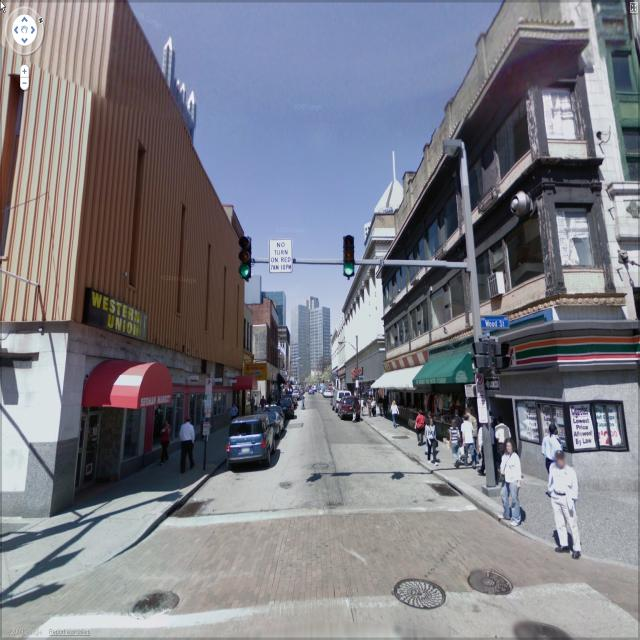b_1: (382, 4, 634, 452), (1, 12, 241, 401), (340, 224, 400, 407), (285, 293, 331, 395), (164, 42, 202, 146), (324, 322, 352, 402)
